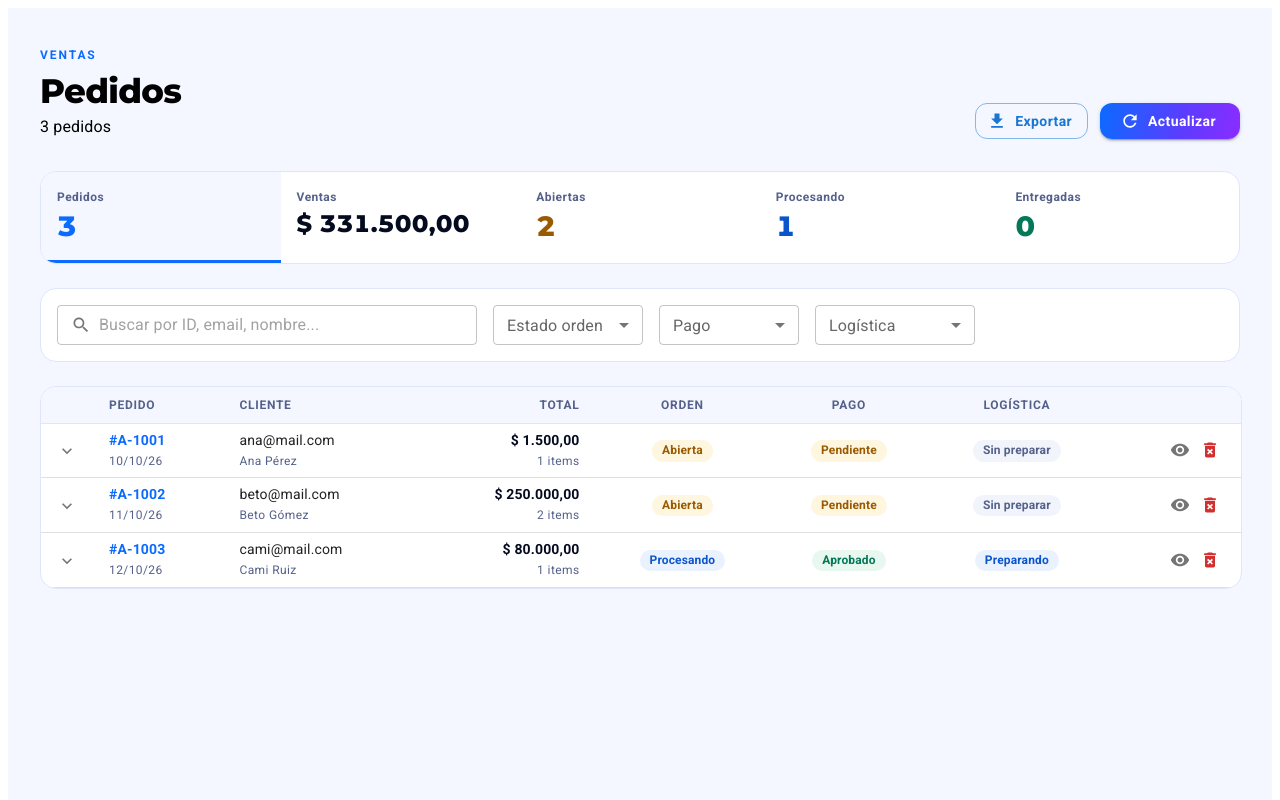
Test: Pedidos · consulta al servidor › la búsqueda se puede borrar con la cruz
Type "ana" into the field with placeholder "Buscar por ID, email, nombre...".
click(288, 324); type("ana")  # box [99,304,477,344]
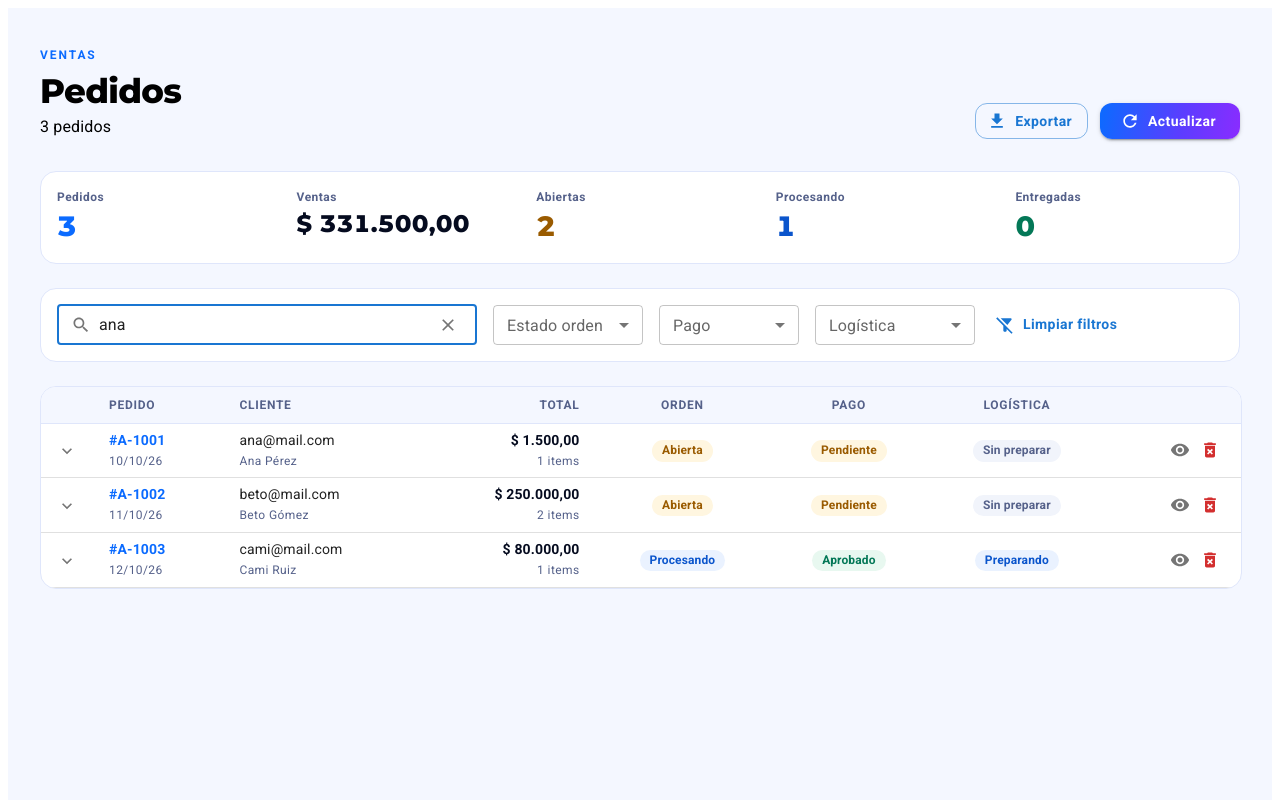
Click the button named "borrar la búsqueda".
click(448, 324)  # box [433,310,463,340]
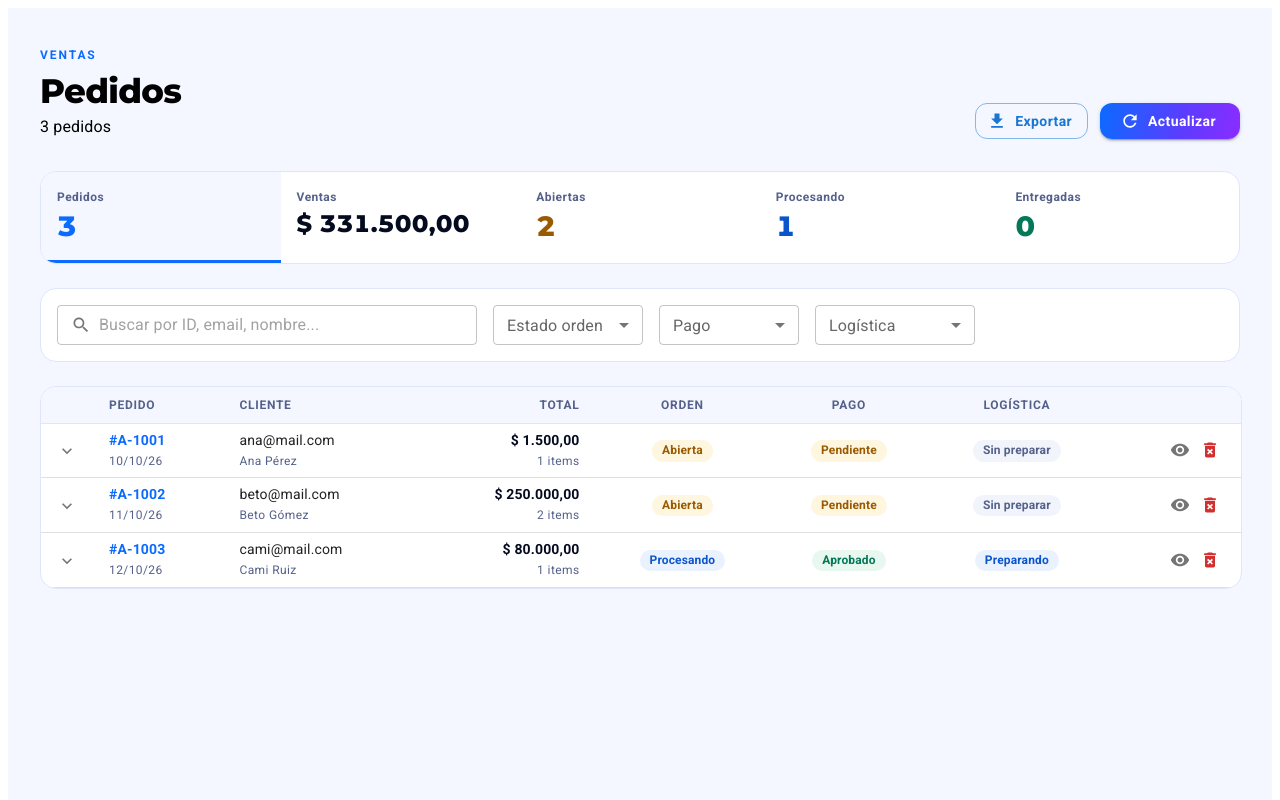
Expected: the field with placeholder "Buscar por ID, email, nombre..." is empty, [99,304,477,344]
